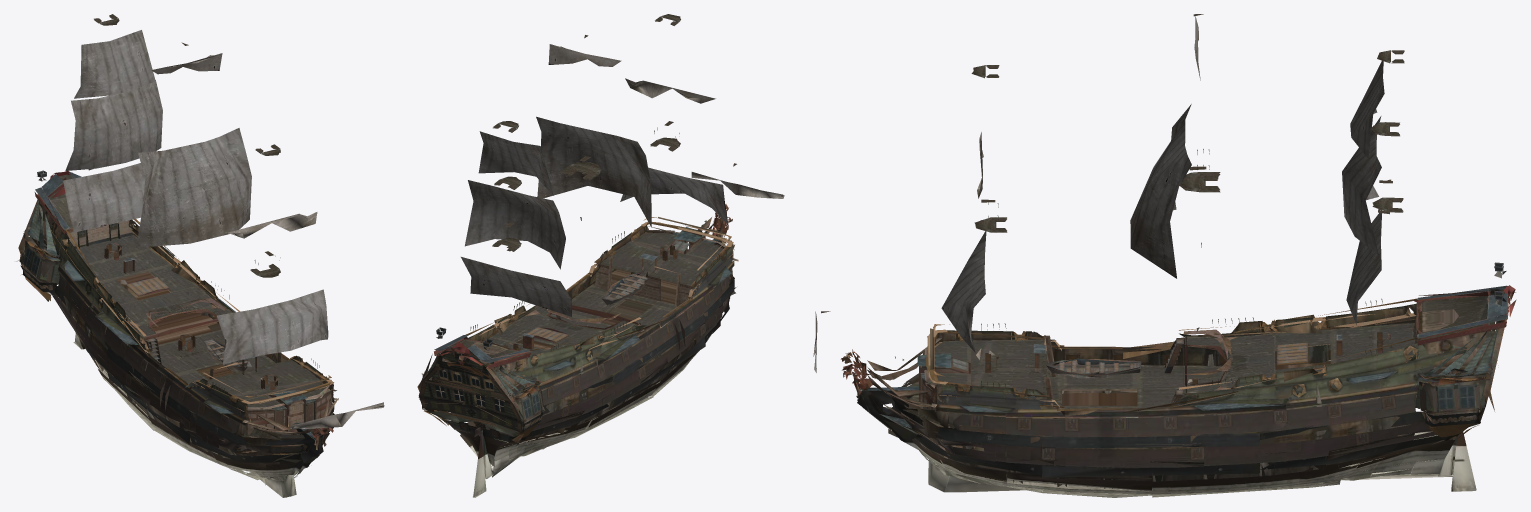
The model's file is ph_ship_pinnace.glb.
3 views of the same model, side by side, from view 1: azimuth 30°, elevation 25°; view 2: azimuth 150°, elevation 25°; view 3: azimuth 270°, elevation 25° (orthographic). The views are drawn at different scales.
Visible parts, largest first — view 1: ship_pinnace_aft; view 2: ship_pinnace_aft; view 3: ship_pinnace_aft.
Boxes of the visible parts, <box> form: ship_pinnace_aft: <box>16,14,384,497</box>; ship_pinnace_aft: <box>417,14,784,497</box>; ship_pinnace_aft: <box>813,14,1516,497</box>.
Bounding box in the file's own units: 9.13 × 27.51 × 36.86.
Materials: 7 (7 with a texture image).
